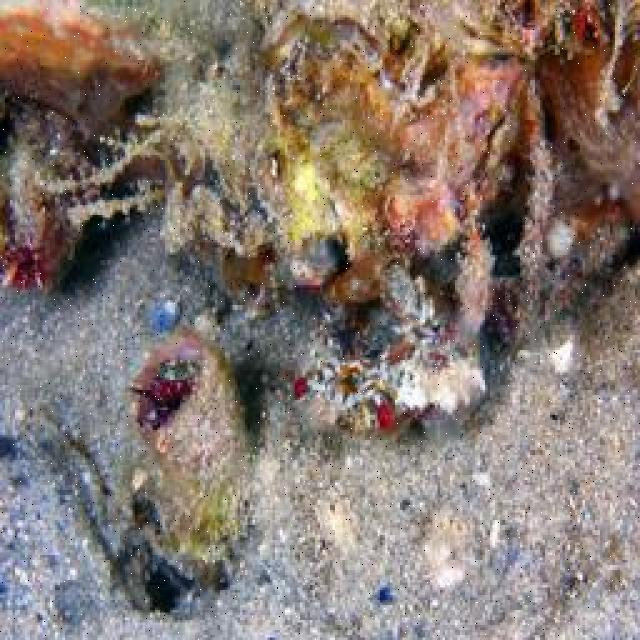reefs: (128, 331, 246, 576)
